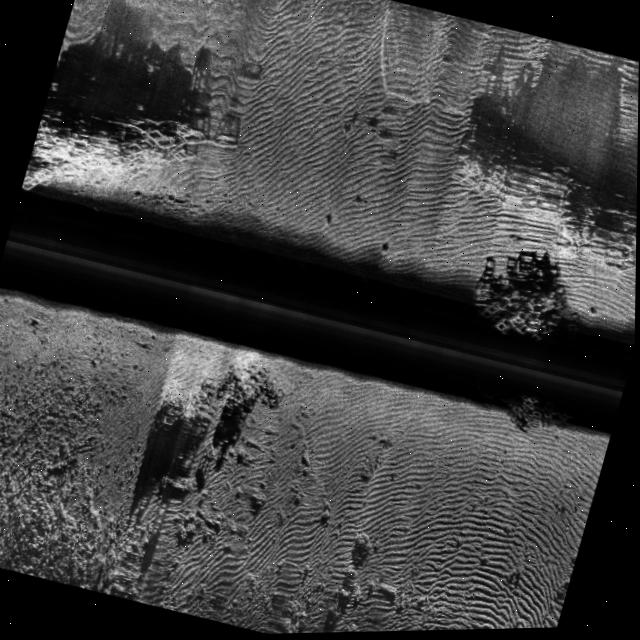artificial reef: (22, 82, 230, 234), (425, 246, 595, 362), (489, 374, 586, 443)
